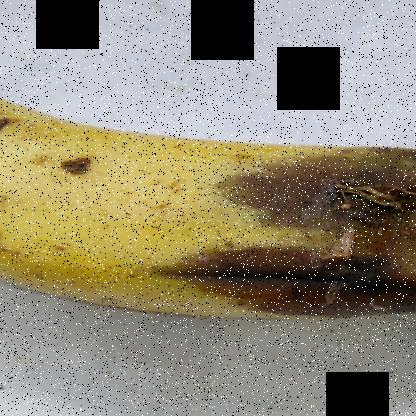rotten: (181, 93, 415, 352)
